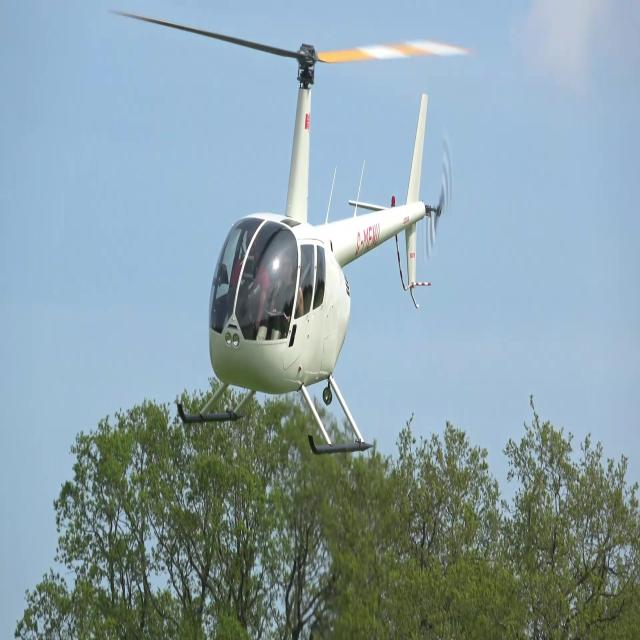CIV_HELO: (176, 40, 428, 457)
